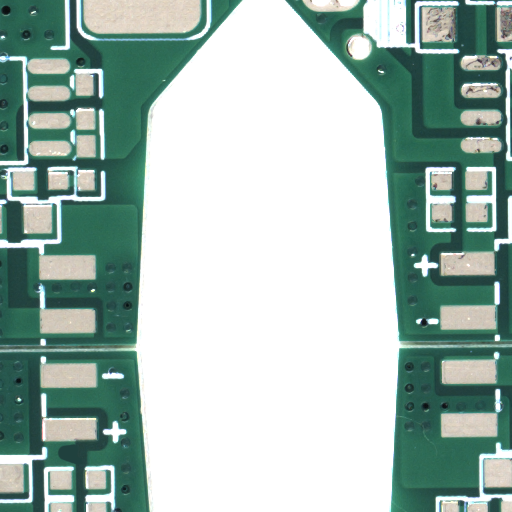Mouse_bite: (68, 454, 87, 473)
